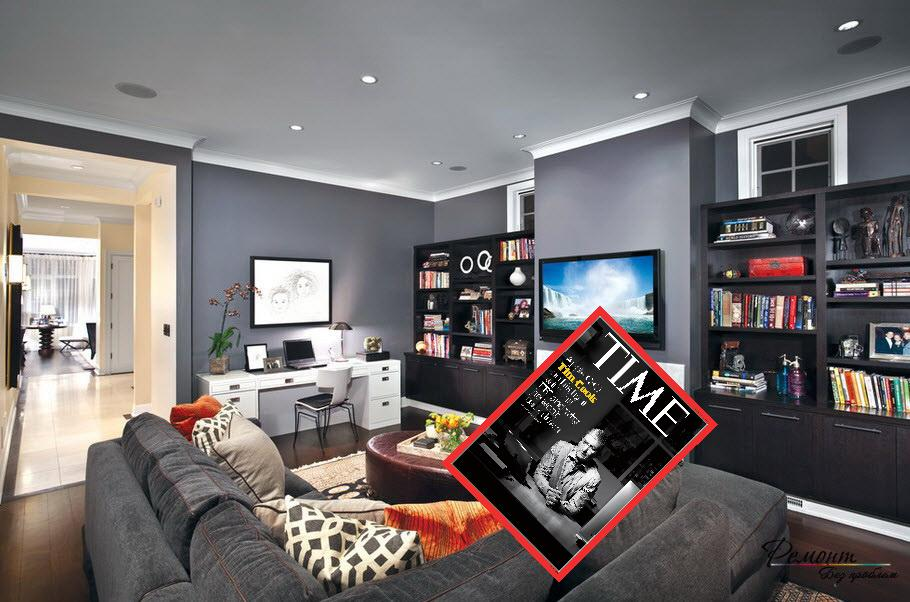times: (435, 304, 719, 583)
